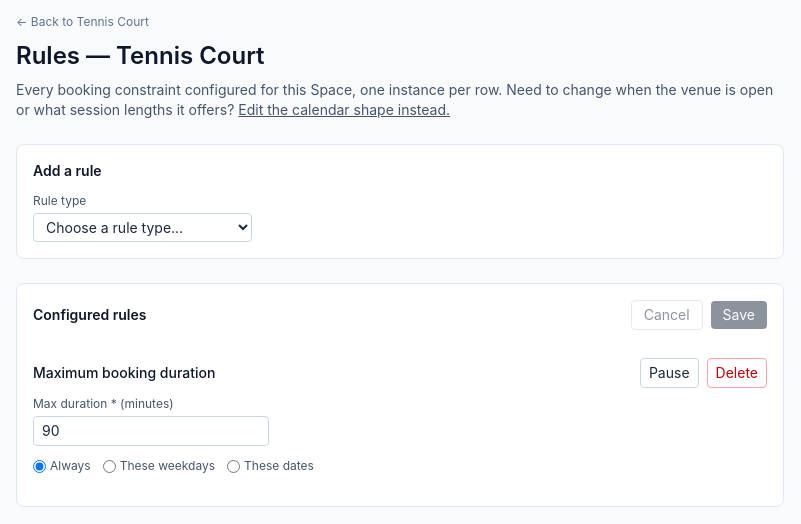
Scenario: SpaceRulesPage — create, pause, delete › deletes a rule after the confirm step
The image size is (801, 524).
Click the button with test id "rule-5-delete-start" at [737, 373], box [707, 358, 767, 388]
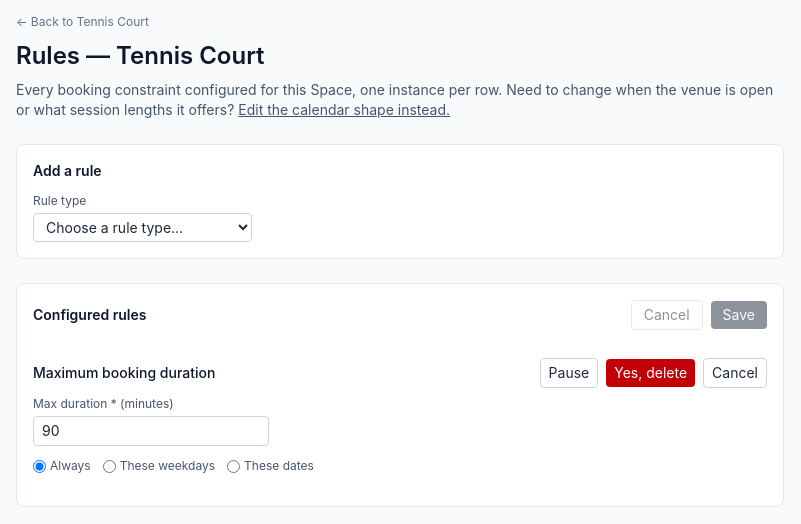
Click the button with test id "rule-5-delete-confirm-yes" at [651, 373], box [606, 359, 695, 387]
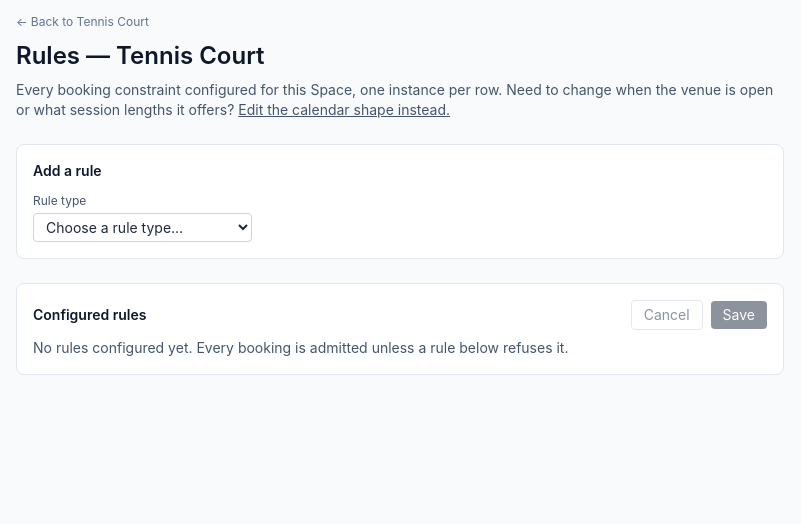
Expected: the list item with test id "rule-5" is gone
